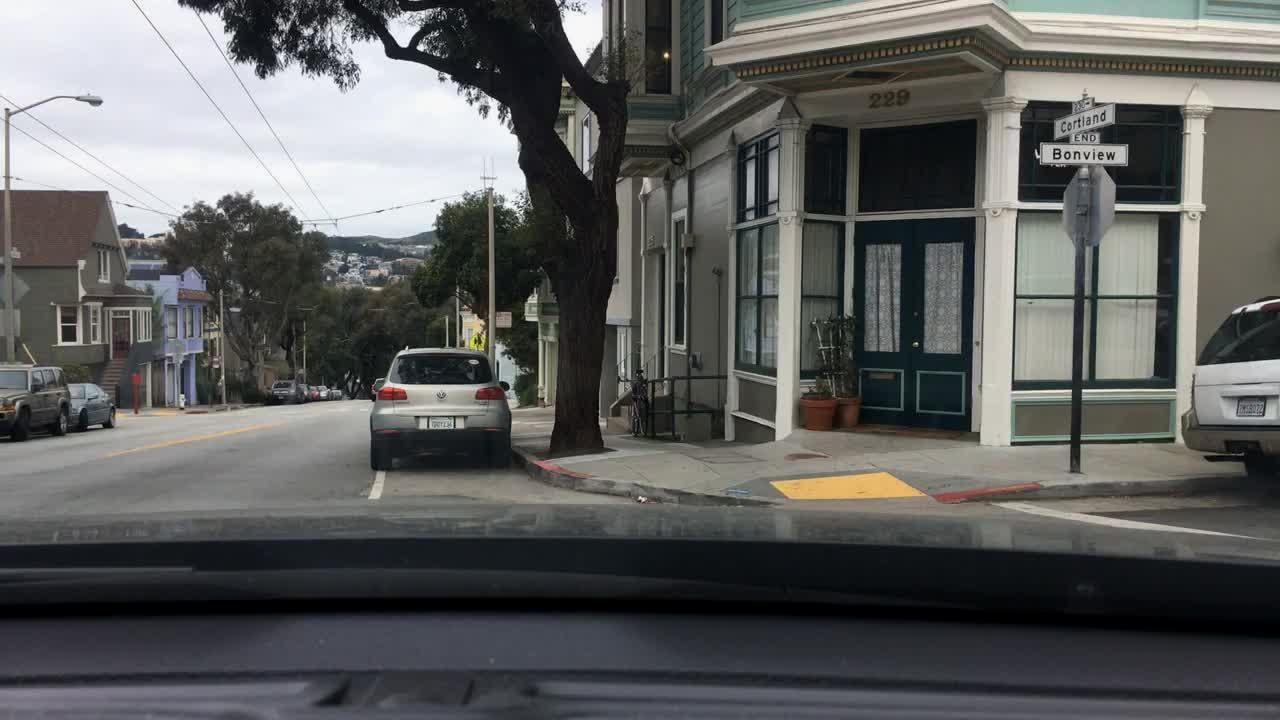Volkswagen: (433, 388, 451, 403)
